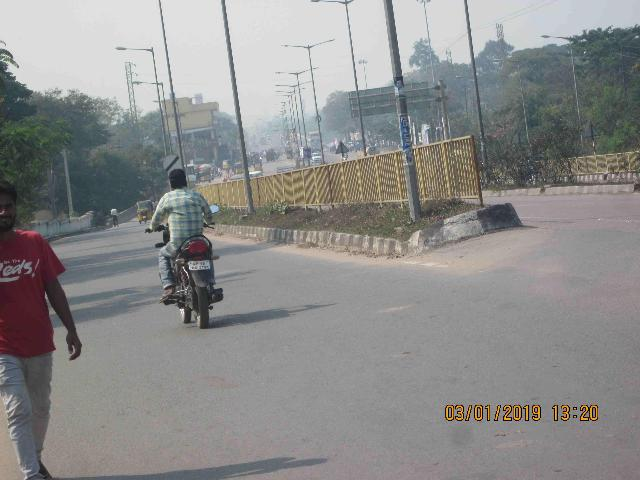motor: (146, 204, 228, 333)
non-helm: (170, 169, 191, 192)
